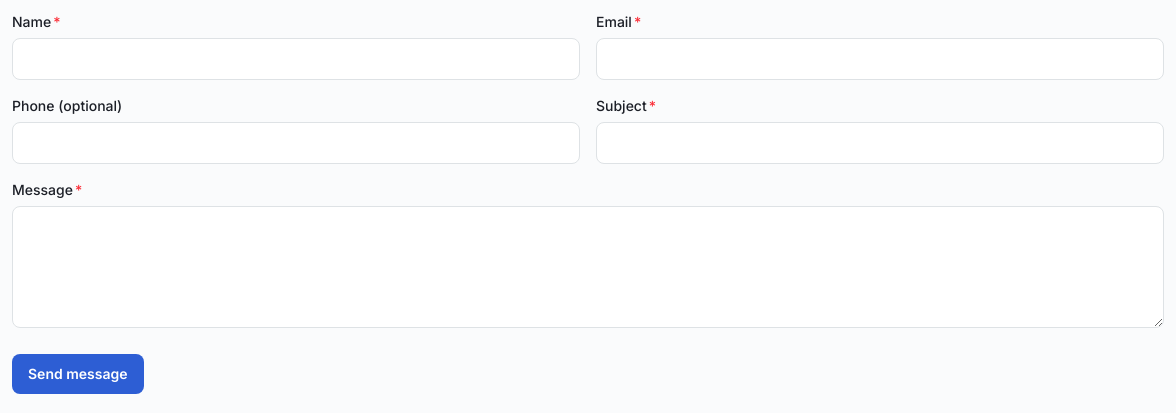
Scenario: ContactForm › sends the message and confirms to the visitor
Type "Jane Recruiter" into the field labelled "Name*". click: [296, 59]
box: 12,38 -> 580,80
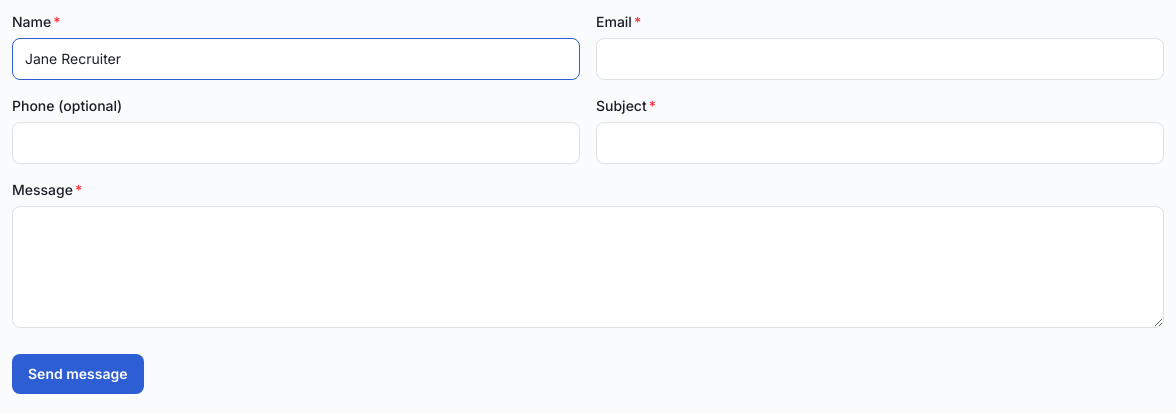
Type "jane@example.com" into the field labelled "Email*". click: [880, 59]
box: 596,38 -> 1164,80
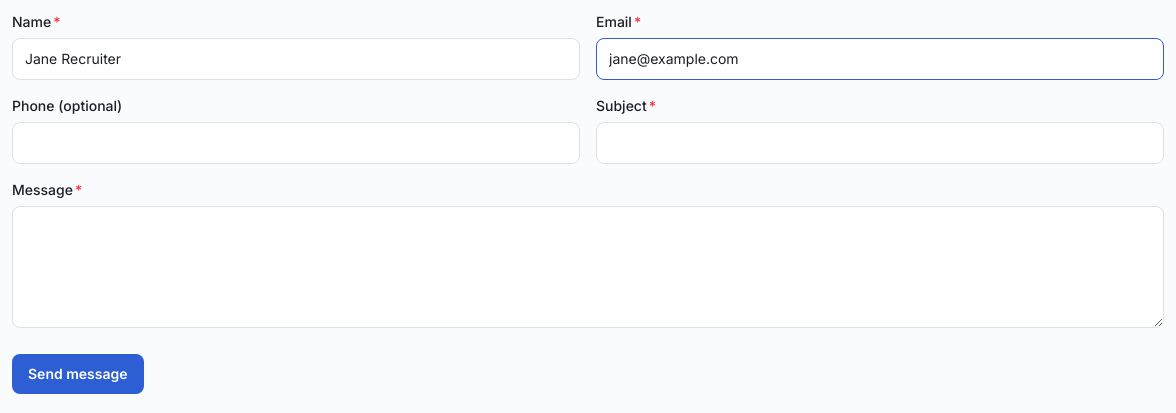
Type "Internship" into the field labelled "Subject*". click: [880, 143]
box: 596,122 -> 1164,164
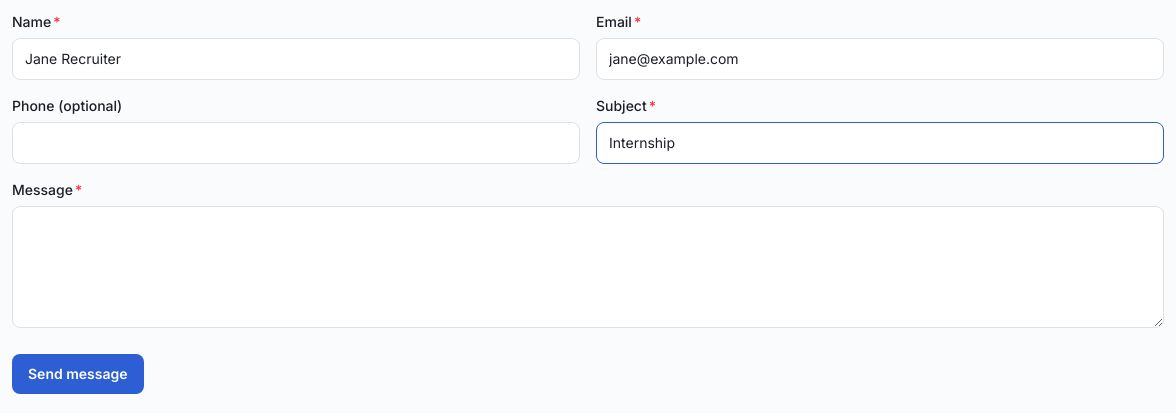
Type "Hello Bryan, I have an opportunity." into the text box labelled "Message*". click: [588, 267]
box: 12,206 -> 1164,328
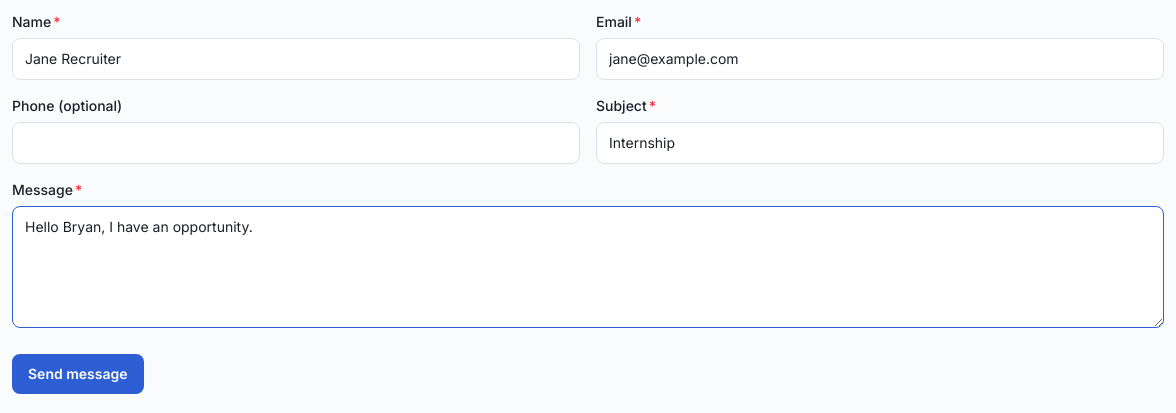
Click the button "Send message". click: [78, 374]
box: 12,354 -> 144,394
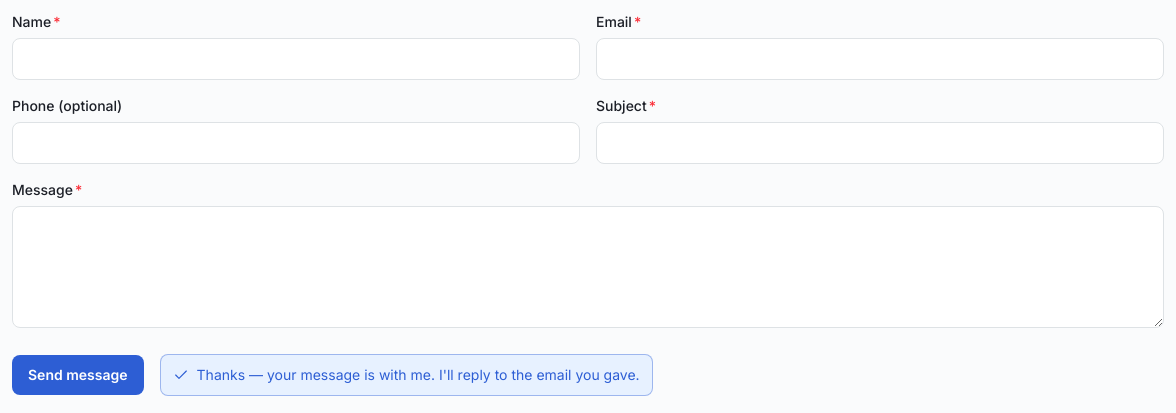
Expected: the message shows "Thanks", 197,366 -> 640,383
